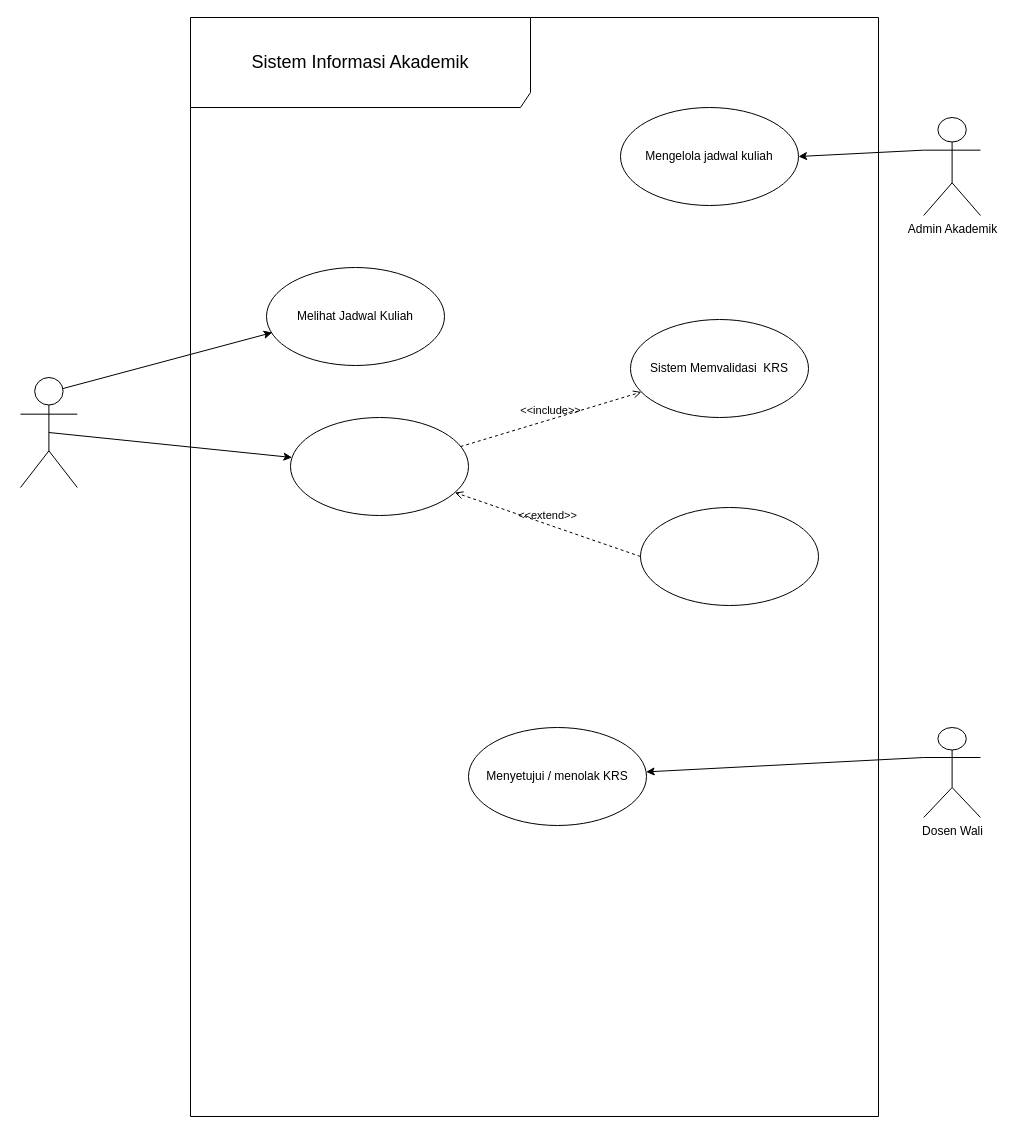
The diagram is 1014 pixels wide and 1134 high, and some of its shapes have lost their labels. Here are the shapes that lost their labels. From the top down, the box of each, then its label:
(20, 376, 77, 488): Mahasiswa
(290, 416, 468, 516): Mengajukan KRS
(640, 506, 818, 606): Mengunduh bukti
